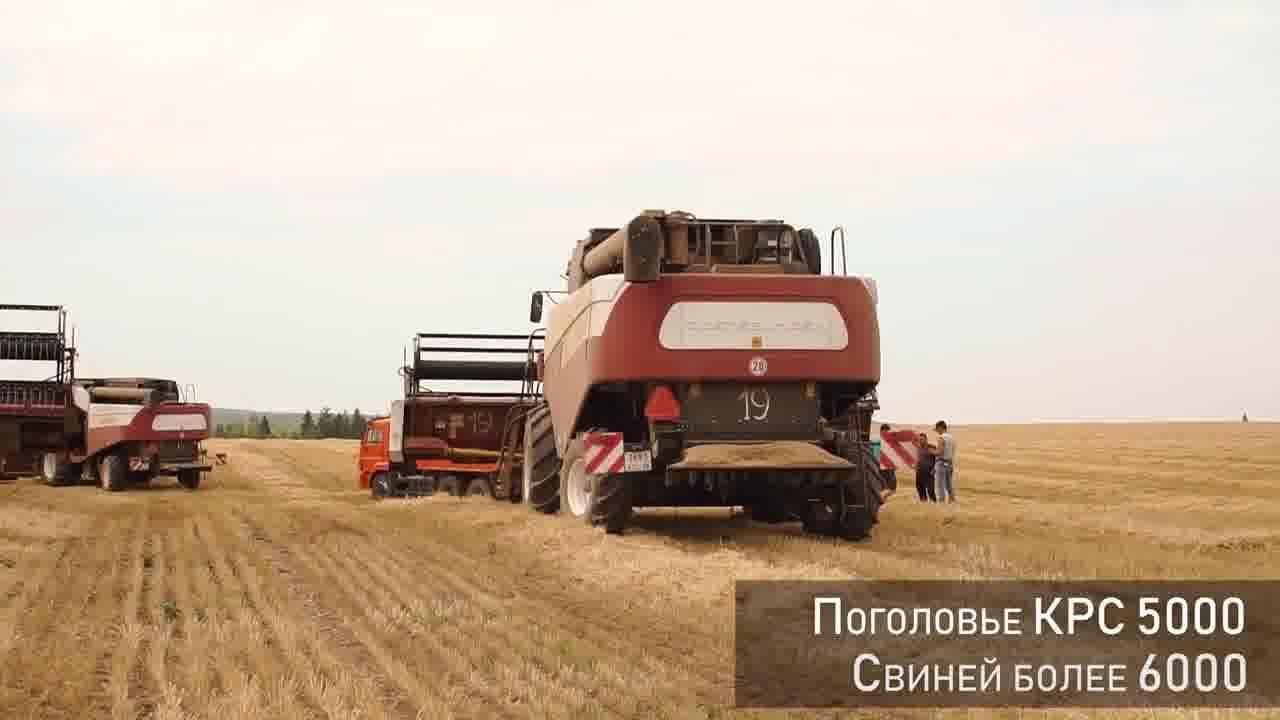combine harvester: (506, 210, 890, 544), (45, 367, 220, 487)
